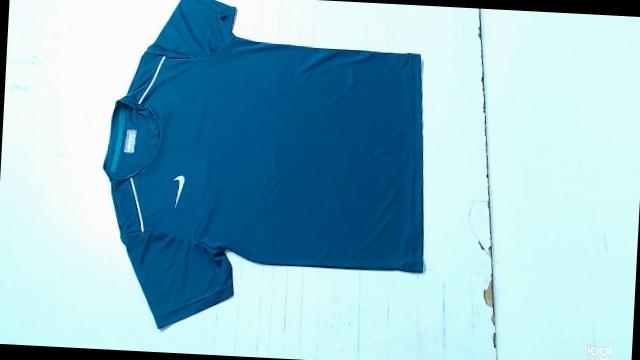new-garment: (103, 0, 423, 327)
